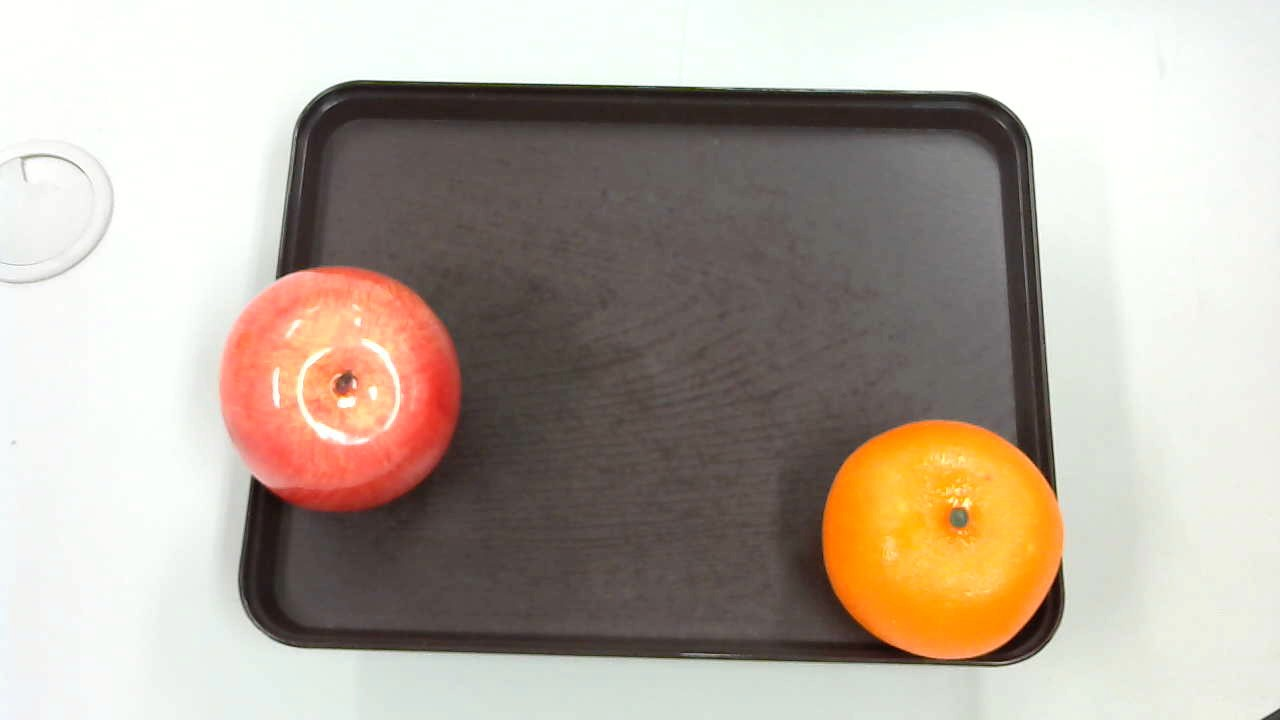orange: (824, 418, 1063, 656)
red apple: (215, 263, 466, 512)
